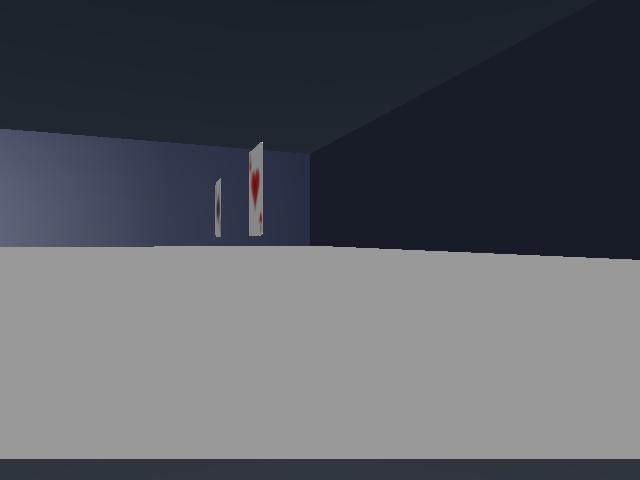club: (215, 179, 221, 237)
heart: (249, 142, 262, 235)
